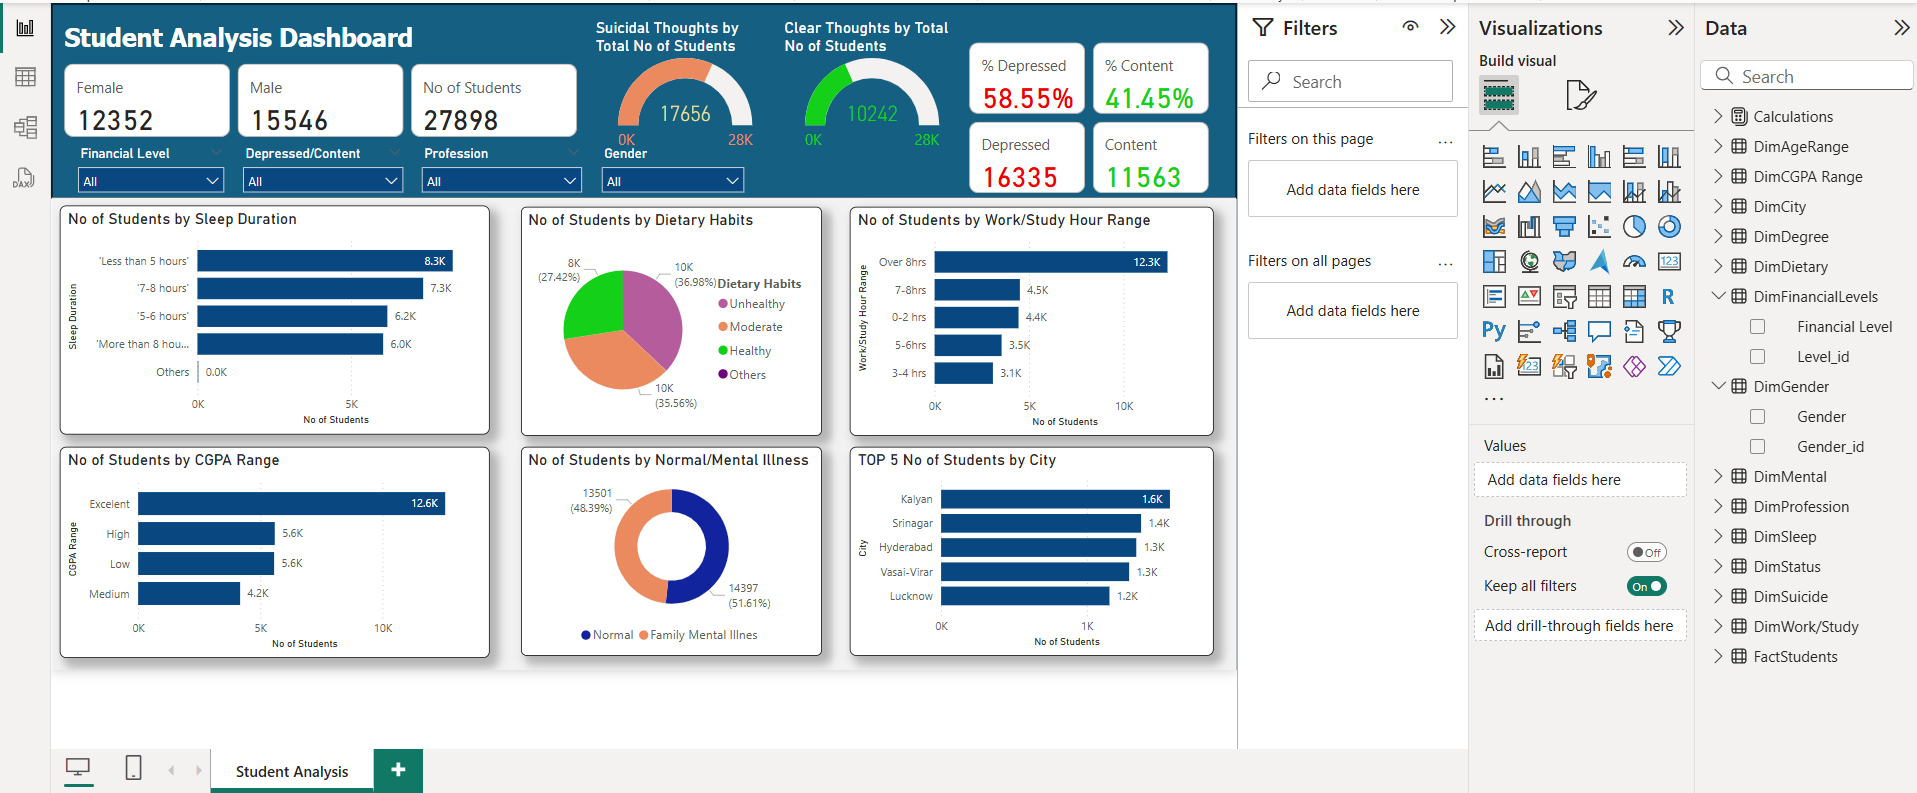

The page's visual inventory and layout, read from the dashboard file:
{"tool":"powerbi","page":{"name":"Student Analysis","canvas":[1280,720],"ordinal":0},"visuals":[{"type":"textbox","box":[9.6,16.5,498.1,43.9],"z":0},{"type":"cardVisual","fields":{"Data":["Calculations.Female","Calculations.Male","Calculations.No of Students"]},"box":[9.4,60.7,565.3,89],"z":1000},{"type":"cardVisual","fields":{"Data":["Calculations.% Depressed","Calculations.% Content","Calculations.Depressed","Calculations.Content"]},"box":[986.2,37.8,268.5,172.7],"z":2000},{"type":"slicer","fields":{"Values":["DimLevels.Level"]},"box":[18.9,148.4,178.1,62.1],"z":3000},{"type":"clusteredBarChart","fields":{"Category":["DimSleep.Sleep Duration"],"Y":["Calculations.No of Students"]},"box":[9.4,218.6,464.1,246.9],"z":4000},{"type":"clusteredBarChart","fields":{"Category":["DimWork/Study.Work/Study Hour Range"],"Y":["Calculations.No of Students"]},"box":[861.8,219.6,392.5,247],"z":5000},{"type":"clusteredBarChart","fields":{"Category":["DimCGPA Range.CGPA Range"],"Y":["Calculations.No of Students"]},"box":[9.6,478.9,463.8,227.8],"z":6000},{"type":"clusteredBarChart","title":"TOP 5 No of Students by City","fields":{"Category":["DimCity.City"],"Y":["Calculations.No of Students"]},"box":[862.1,478.9,392.6,225.3],"z":7000},{"type":"pieChart","fields":{"Y":["Calculations.No of Students"],"Category":["DimDietary.Dietary Habits"]},"box":[507.3,219.9,325.1,246.9],"z":8000},{"type":"donutChart","fields":{"Category":["DimMental.Normal/Mental Illness"],"Y":["Calculations.No of Students"]},"box":[507.3,478.9,325.1,225.3],"z":9000},{"type":"gauge","title":"Suicidal Thoughts by Total No of Students","fields":{"Y":["Calculations.Suicidal Thoughts"],"MaxValue":["Calculations.Total No of Students"]},"box":[582.8,16.2,203.7,152.4],"z":10000},{"type":"gauge","title":"Clear Thoughts by Total No of Students","fields":{"Y":["Calculations.Clear Thoughts"],"MaxValue":["Calculations.Total No of Students"]},"box":[786.5,16.2,199.7,152.4],"z":11000},{"type":"slicer","fields":{"Values":["DimStatus.Depressed/Content"]},"box":[197,148.4,192.9,62.1],"z":12000},{"type":"slicer","fields":{"Values":["DimProfession.Profession"]},"box":[389.9,148.4,192.9,62.1],"z":13000},{"type":"slicer","fields":{"Values":["DimGender.Gender"]},"box":[584.2,148.4,174,60.7],"z":13001}]}

Visuals, with their boxes on the page's 1280x720 design canvas (x1, y1, x2, y2). These are canvas units, not pixel positions in the 1917x793 screenshot, which may show the page scaled, cropped or inside an application window:
textbox: rect(10, 16, 508, 60)
cardVisual - Calculations.Female x Calculations.Male: rect(9, 61, 575, 150)
cardVisual - Calculations.% Depressed x Calculations.% Content: rect(986, 38, 1255, 210)
slicer - DimLevels.Level: rect(19, 148, 197, 210)
clusteredBarChart - DimSleep.Sleep Duration x Calculations.No of Students: rect(9, 219, 474, 466)
clusteredBarChart - DimWork/Study.Work/Study Hour Range x Calculations.No of Students: rect(862, 220, 1254, 467)
clusteredBarChart - DimCGPA Range.CGPA Range x Calculations.No of Students: rect(10, 479, 473, 707)
"TOP 5 No of Students by City" clusteredBarChart: rect(862, 479, 1255, 704)
pieChart - Calculations.No of Students x DimDietary.Dietary Habits: rect(507, 220, 832, 467)
donutChart - DimMental.Normal/Mental Illness x Calculations.No of Students: rect(507, 479, 832, 704)
"Suicidal Thoughts by Total No of Students" gauge: rect(583, 16, 786, 169)
"Clear Thoughts by Total No of Students" gauge: rect(786, 16, 986, 169)
slicer - DimStatus.Depressed/Content: rect(197, 148, 390, 210)
slicer - DimProfession.Profession: rect(390, 148, 583, 210)
slicer - DimGender.Gender: rect(584, 148, 758, 209)
